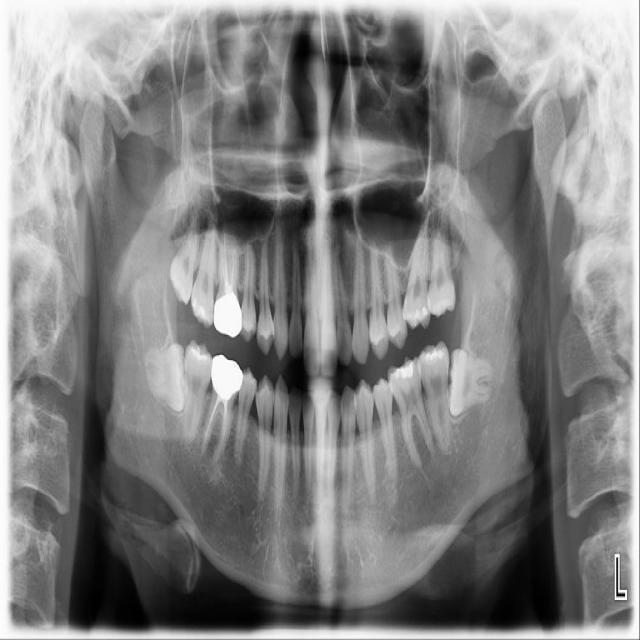3M ESPE Implant: (165, 214, 203, 305)
52: (384, 353, 427, 412), (209, 352, 245, 403), (212, 291, 243, 340), (402, 285, 430, 329)
73: (197, 383, 239, 463), (214, 223, 242, 303), (588, 551, 592, 557)
BioHorizons Implant: (427, 202, 459, 319)
Biomet 3i Implant: (448, 348, 494, 419)
Blue Sky Bio Implant: (416, 341, 452, 456)
Caries: (189, 218, 221, 330)
Implant: (180, 339, 214, 444)
Keystone Dental Implant: (141, 340, 198, 416)
